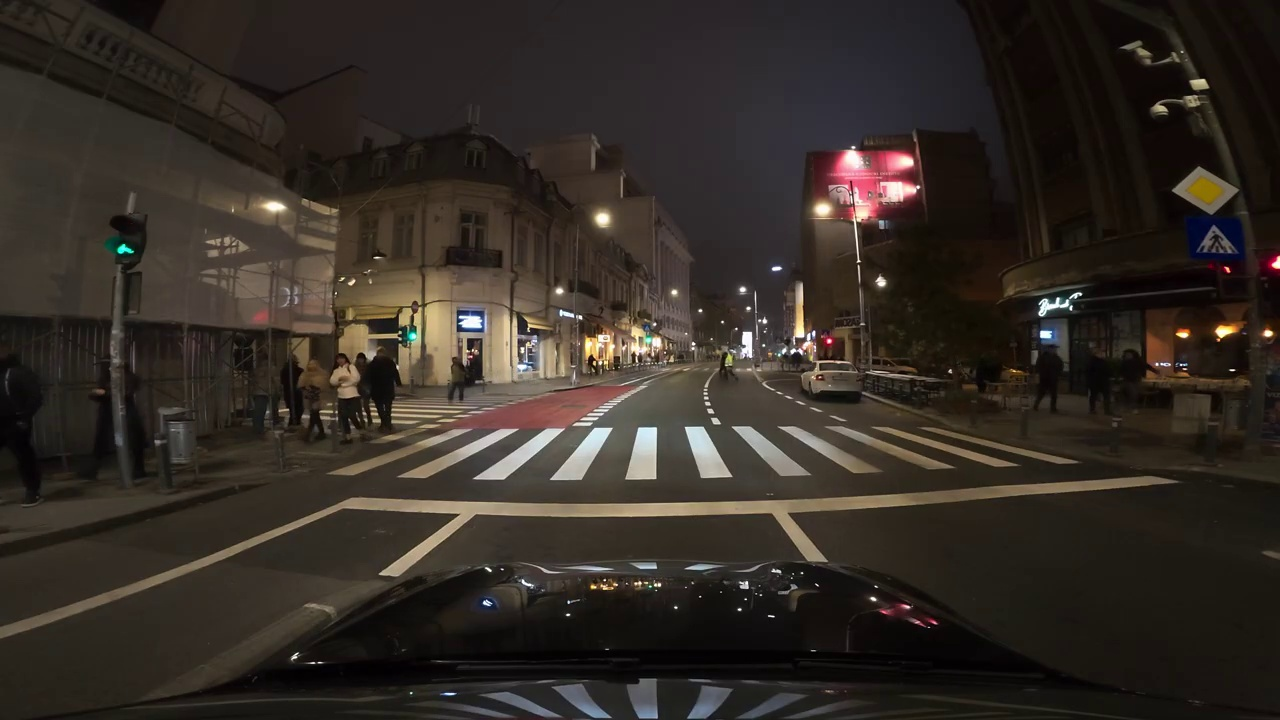acesa: (591, 208, 615, 231), (260, 200, 286, 220), (812, 198, 834, 221), (869, 274, 890, 295), (735, 283, 751, 300)
